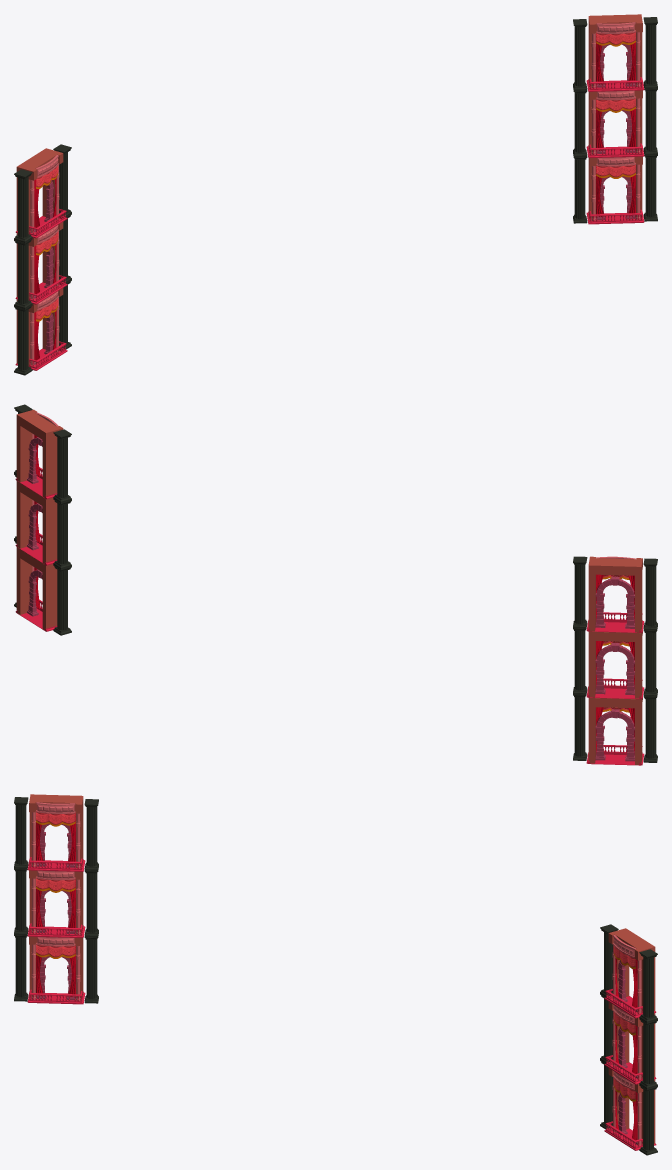
File: Balconys.fbx
3 renders of one model, top to bottom at view 1: azimuth 30°, elevation 25°; view 2: azimuth 150°, elevation 25°; view 3: azimuth 330°, elevation 25°, orthographic.
Visible parts, largest first — view 1: polySurface5776; view 2: polySurface5776; view 3: polySurface5776.
Boxes of the visible parts, left/top/right/bottom form: polySurface5776: left=14, top=14, right=657, bottom=375; polySurface5776: left=14, top=404, right=657, bottom=765; polySurface5776: left=14, top=794, right=657, bottom=1155.
Size of the model in its own units: 6504 by 1920 by 433.
